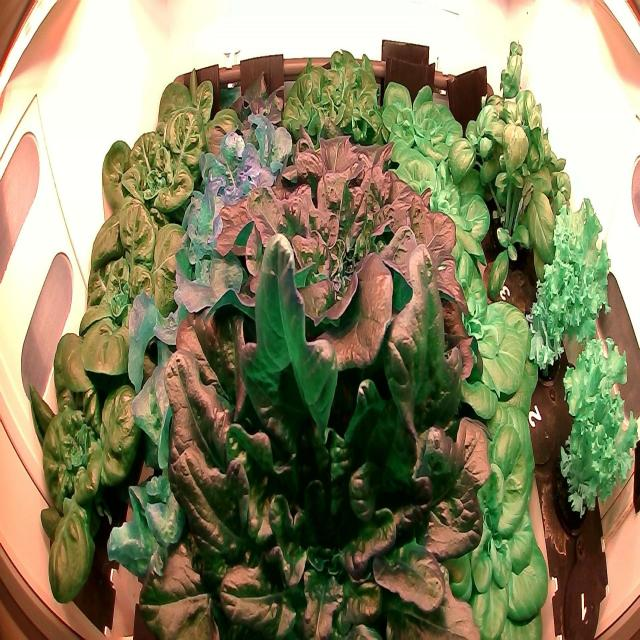young: (389, 404, 551, 640), (393, 241, 548, 438), (363, 144, 503, 300), (362, 71, 481, 190)
